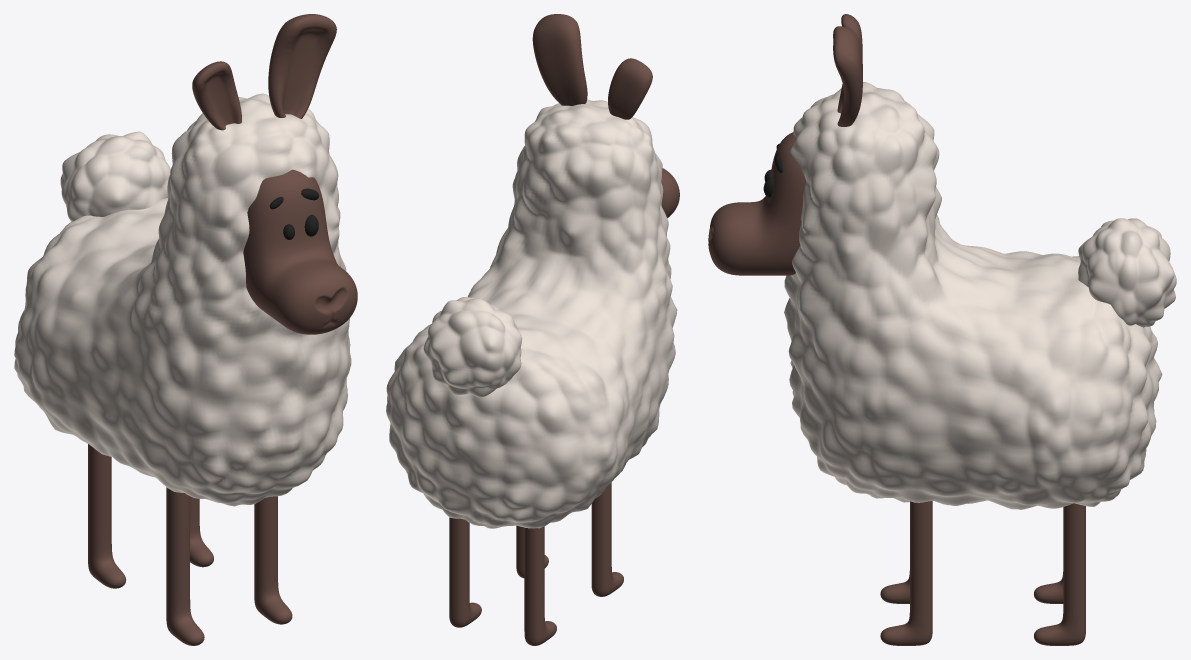
The model's file is sheep-01.glb.
3 renders of one model, left to right at view 1: azimuth 30°, elevation 25°; view 2: azimuth 150°, elevation 25°; view 3: azimuth 270°, elevation 25°, orthographic. The views are drawn at different scales.
Visible parts, largest first — view 1: Body, Face, Legs.Front, Ear.Left, Legs.Rear, Ear.Right; view 2: Body, Legs.Rear, Ear.Left, Legs.Front, Ear.Right, Face; view 3: Body, Face, Legs.Front, Legs.Rear, Ear.Left.
Boxes of the visible parts, x1,y1,x2,y2 form: Body: [14, 93, 351, 506]; Face: [243, 169, 357, 334]; Legs.Front: [166, 487, 292, 645]; Ear.Left: [268, 14, 336, 118]; Legs.Rear: [88, 444, 213, 588]; Ear.Right: [192, 61, 241, 130]; Body: [386, 99, 677, 528]; Legs.Rear: [449, 517, 556, 645]; Ear.Left: [532, 14, 587, 105]; Legs.Front: [516, 482, 623, 596]; Ear.Right: [608, 58, 652, 119]; Face: [661, 168, 679, 217]; Body: [784, 82, 1176, 509]; Face: [708, 132, 806, 275]; Legs.Front: [880, 501, 932, 645]; Legs.Rear: [1034, 503, 1085, 645]; Ear.Left: [833, 26, 862, 126].
Size of the model in its own units: 1 by 2.29 by 1.58.
